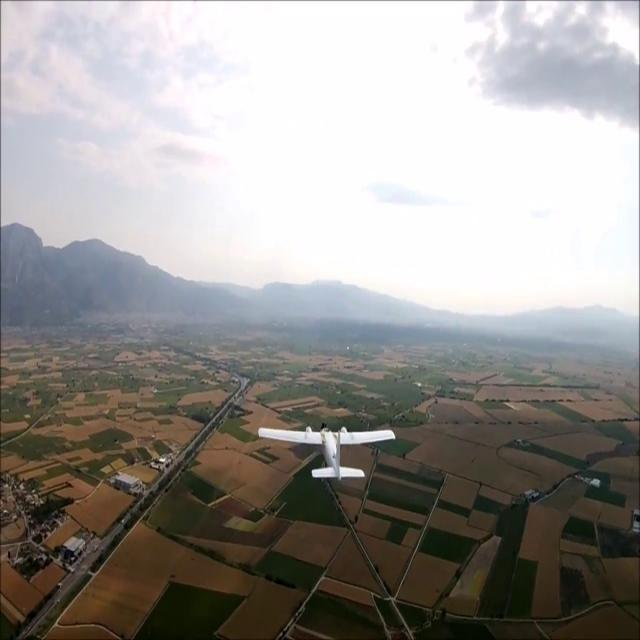iha: (253, 424, 388, 482)
